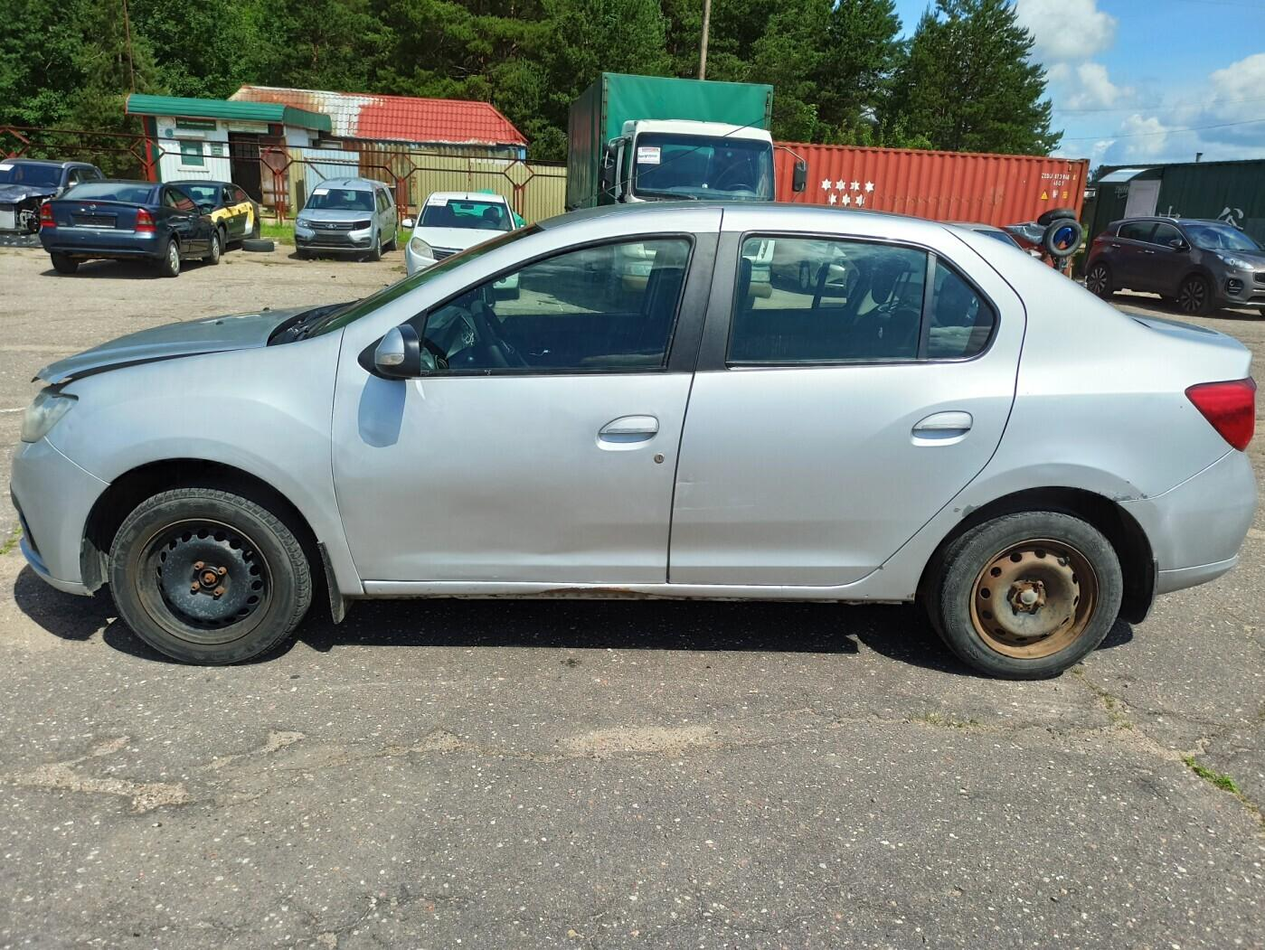Logan_2018: (9, 196, 1265, 687)
